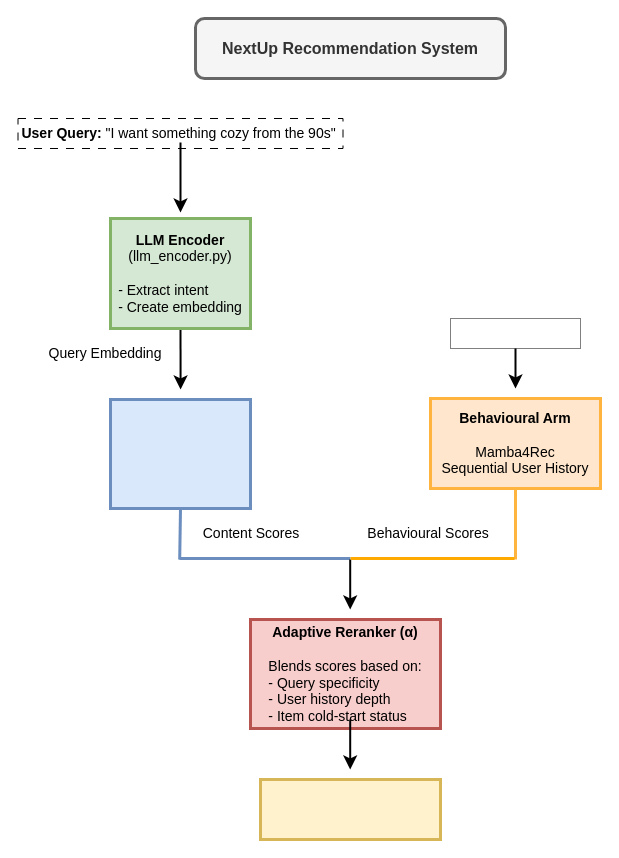
Some shapes in this 619 by 858 pixel diagram are drawn without their labels. The shapes that lost their labels are listed below. From the top down, each one's box as (x1, y1, x2, y2) in pixels, then its label:
(450, 318, 580, 348): User History
(108, 398, 252, 510): Content Arm BGE Embeddings 190K+ plot index FAISS similarity
(258, 778, 442, 840): Top-K Recommendations
